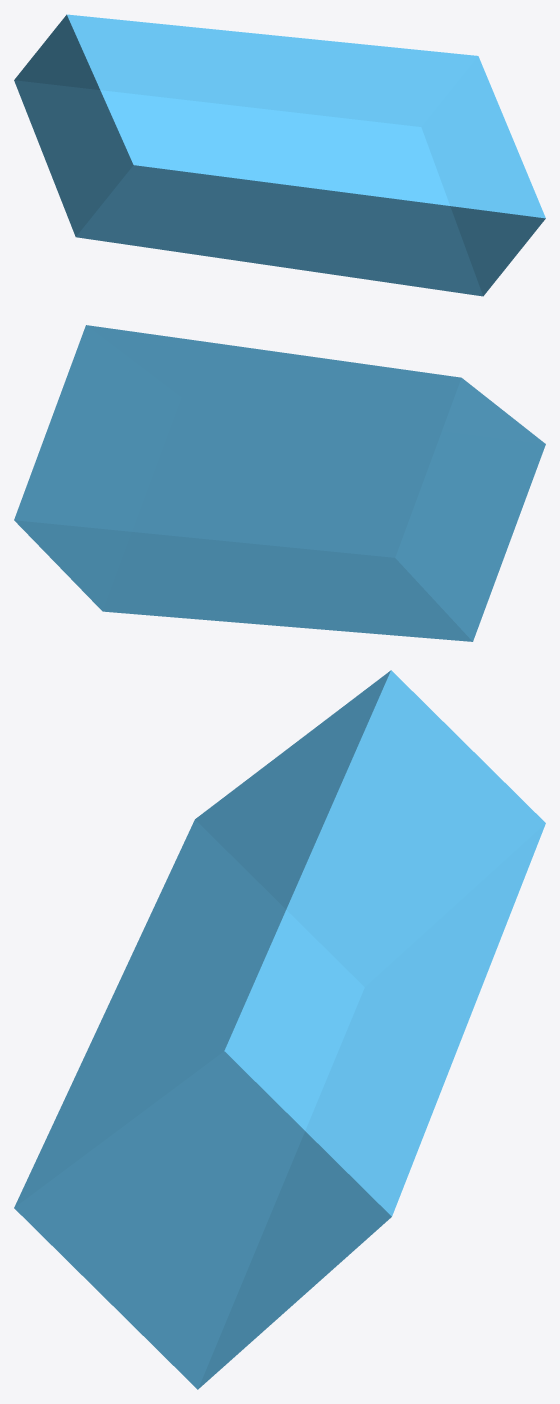
File: Event_420604493_HErechit_19.fbx
3 renders of one model, top to bottom at view 1: azimuth 30°, elevation 25°; view 2: azimuth 150°, elevation 25°; view 3: azimuth 270°, elevation 25°, orthographic. The views are drawn at different scales.
Parts seen in each view (by area): view 1: Model; view 2: Model; view 3: Model.
Boxes of the visible parts, x1,y1,x2,y2 form: Model: (14, 14, 545, 296); Model: (14, 325, 545, 641); Model: (14, 670, 545, 1389).
Bounding box in the file's own units: 0.8433 × 0.7253 × 0.7462.
